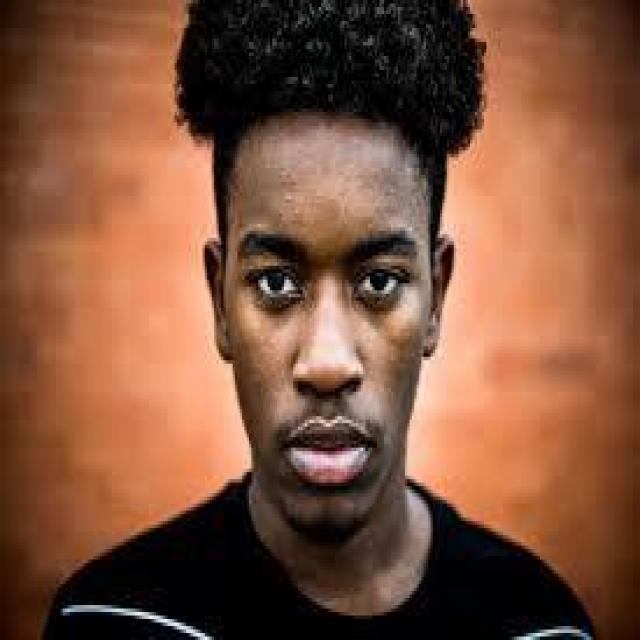person: (23, 0, 591, 633)
